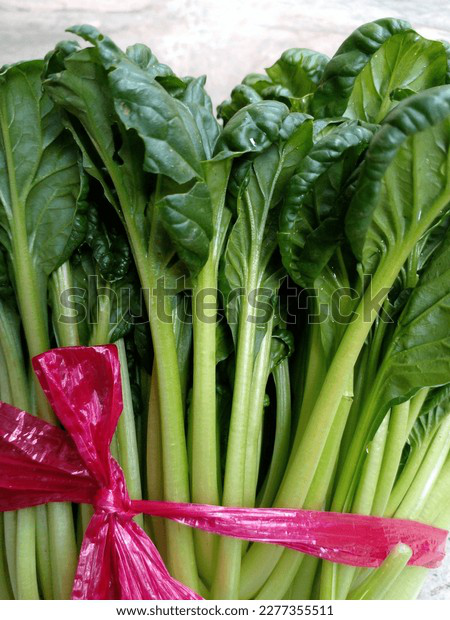Sawi: (89, 93, 406, 515)
